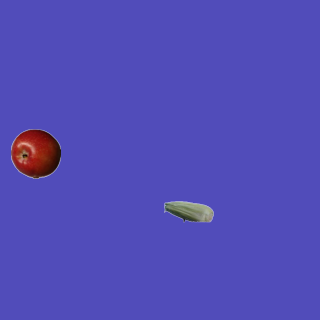Apple Braeburn: (10, 128, 60, 178)
Corn Husk: (163, 186, 213, 236)
